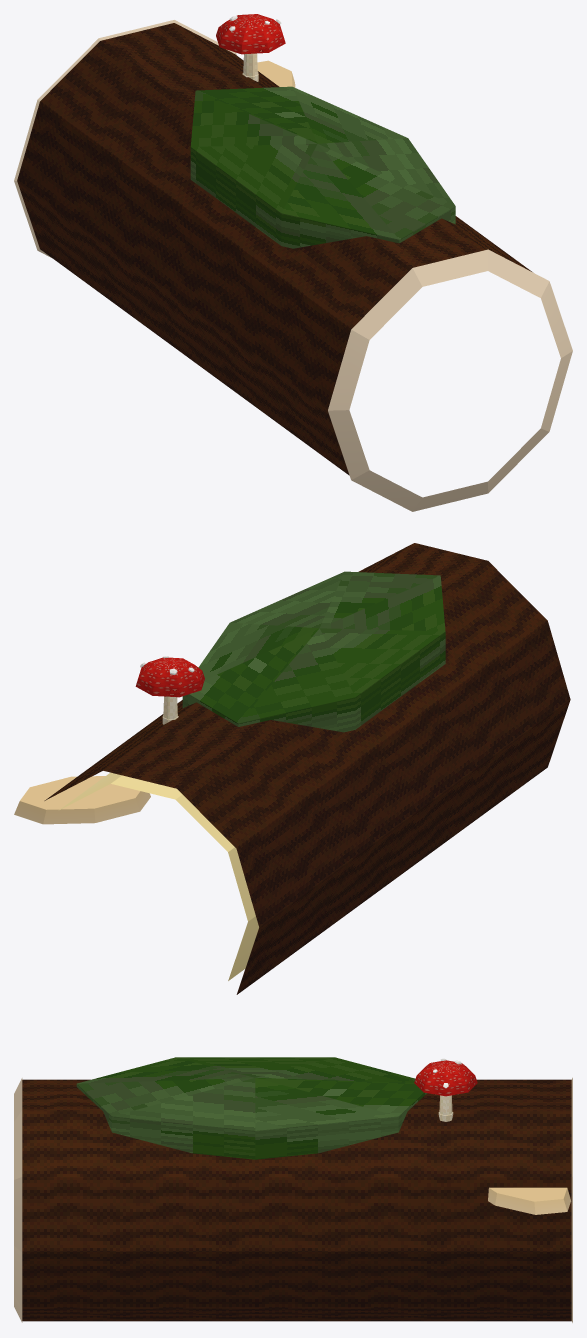
File: hollow_log.glb
3 views of the same model, one above another, from view 1: azimuth 30°, elevation 25°; view 2: azimuth 150°, elevation 25°; view 3: azimuth 270°, elevation 25° (orthographic). The views are drawn at different scales.
Visible parts, largest first — view 1: hollow_log; view 2: hollow_log; view 3: hollow_log.
Part boxes in pixels (x1=…): hollow_log: x1=14, y1=14, x2=572, y2=511; hollow_log: x1=14, y1=543, x2=570, y2=994; hollow_log: x1=14, y1=1057, x2=572, y2=1322.
Bounding box in the file's own units: 2.49 × 2.72 × 5.28.
6 materials, 5 textured.
